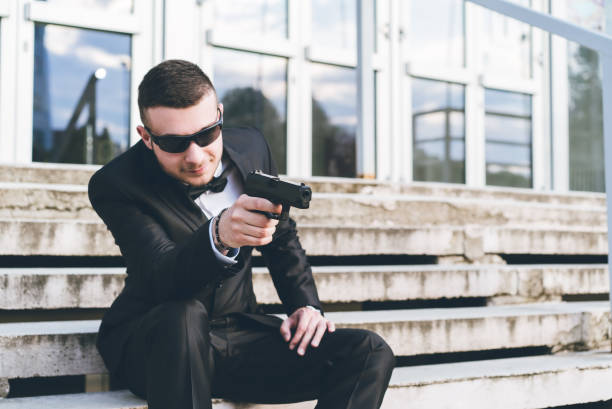gun: (243, 170, 313, 231)
